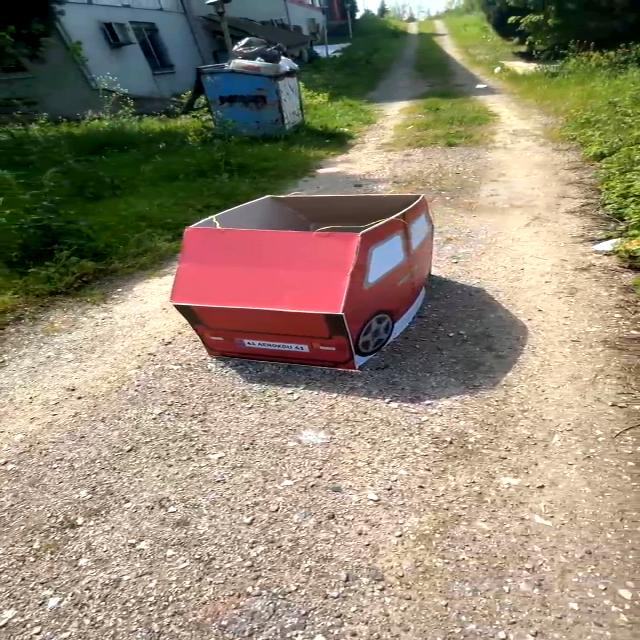red_car: (69, 178, 475, 394)
